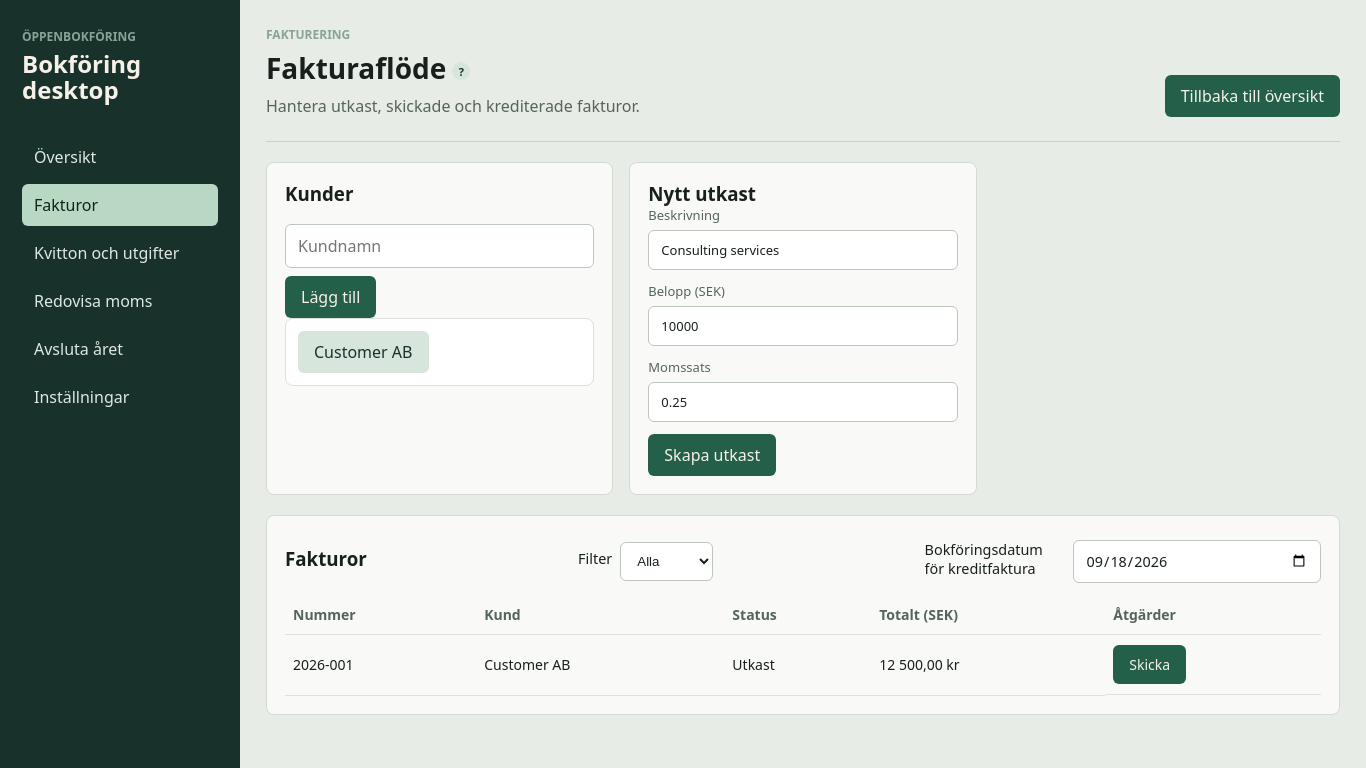
Test: InvoicesPage › guides planning tax profiles to complete setup instead of opening issue review
The width and height of the screenshot is (1366, 768).
Click the button "Skicka": x=1150, y=664 [1113,645,1186,684]
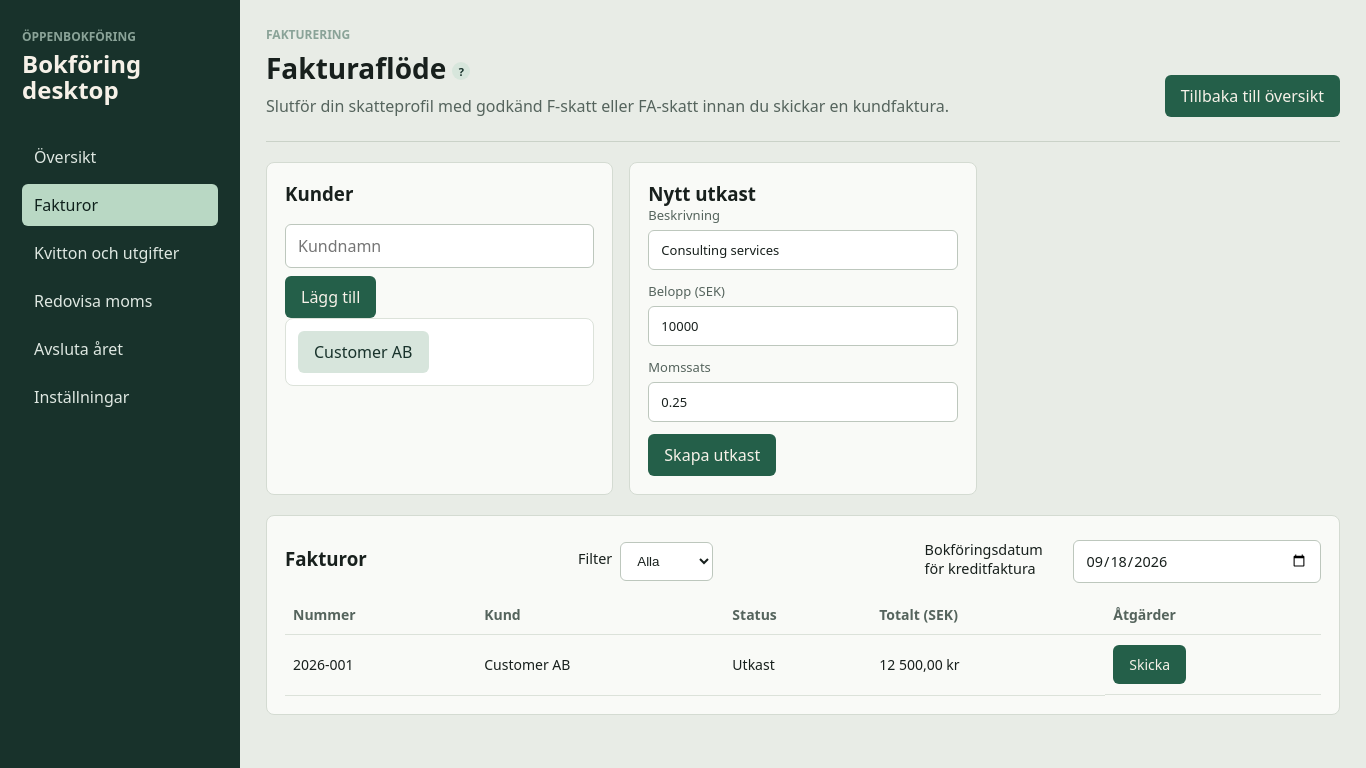
Result: the text "Slutför din skatteprofil med godkänd F-skatt eller FA-skatt innan du skickar en kundfaktura." is shown at [266,95,949,117]
